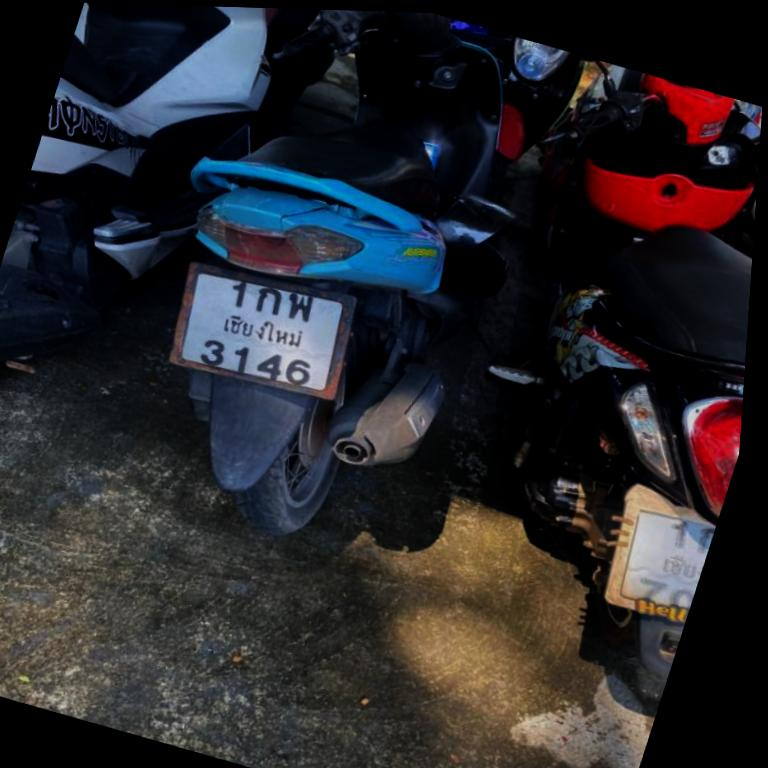license plate: (176, 265, 354, 389), (620, 511, 714, 608)
